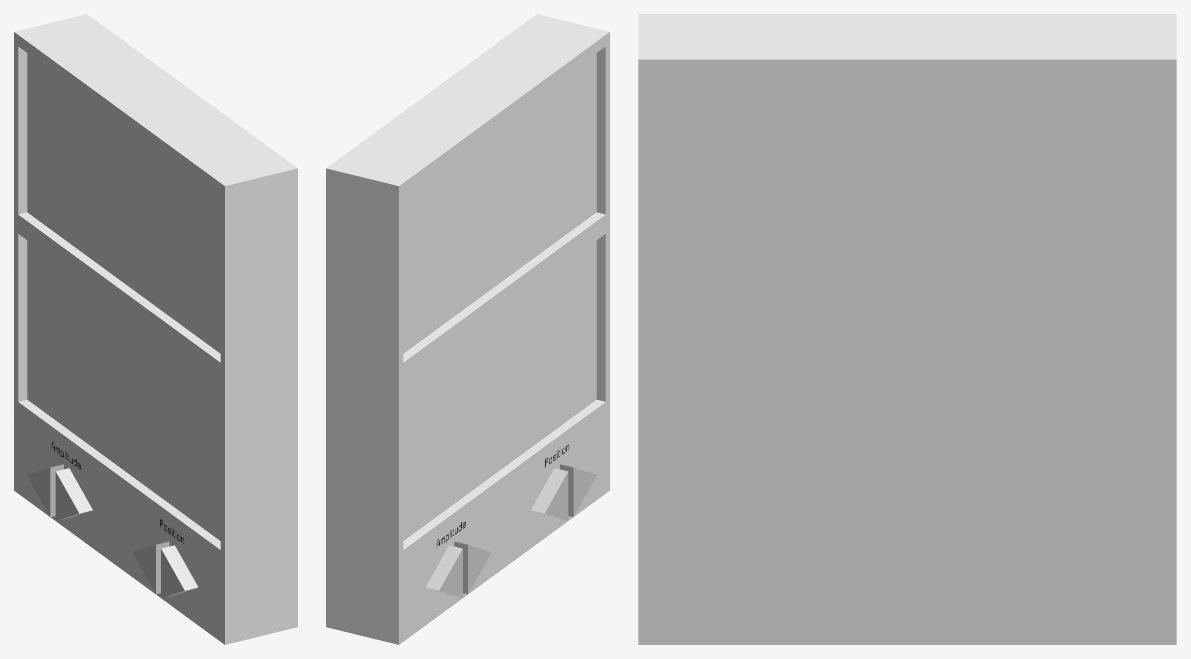
File: wave.tuner.fbx
The picture shows the model from 3 angles, left to right: view 1: azimuth 30°, elevation 25°; view 2: azimuth 150°, elevation 25°; view 3: azimuth 270°, elevation 25°; orthographic projection. The views are drawn at different scales.
Visible parts, largest first — view 1: wave.tuner.machine, btn.001, btn.003, btn, btn.002; view 2: wave.tuner.machine, btn.002, btn, btn.003, btn.001; view 3: wave.tuner.machine.
Part boxes in pixels (x1,y1,x2,y2): wave.tuner.machine: (14, 14, 297, 644); btn.001: (55, 468, 92, 520); btn.003: (161, 545, 198, 598); btn: (27, 464, 63, 516); btn.002: (132, 541, 169, 594); wave.tuner.machine: (326, 14, 609, 644); btn.002: (531, 468, 568, 520); btn: (425, 545, 462, 598); btn.003: (560, 464, 596, 516); btn.001: (454, 541, 491, 594); wave.tuner.machine: (638, 14, 1176, 644).
Bounding box in the file's own units: 1000 × 1200 × 238.
1 material, 1 textured.
